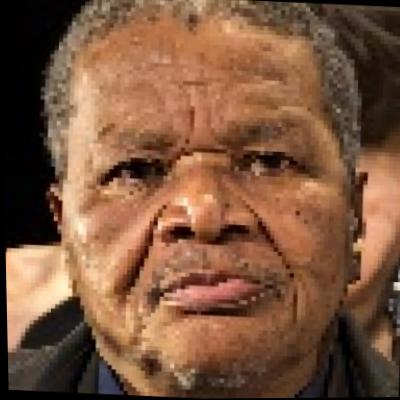angry: (57, 34, 364, 388)
